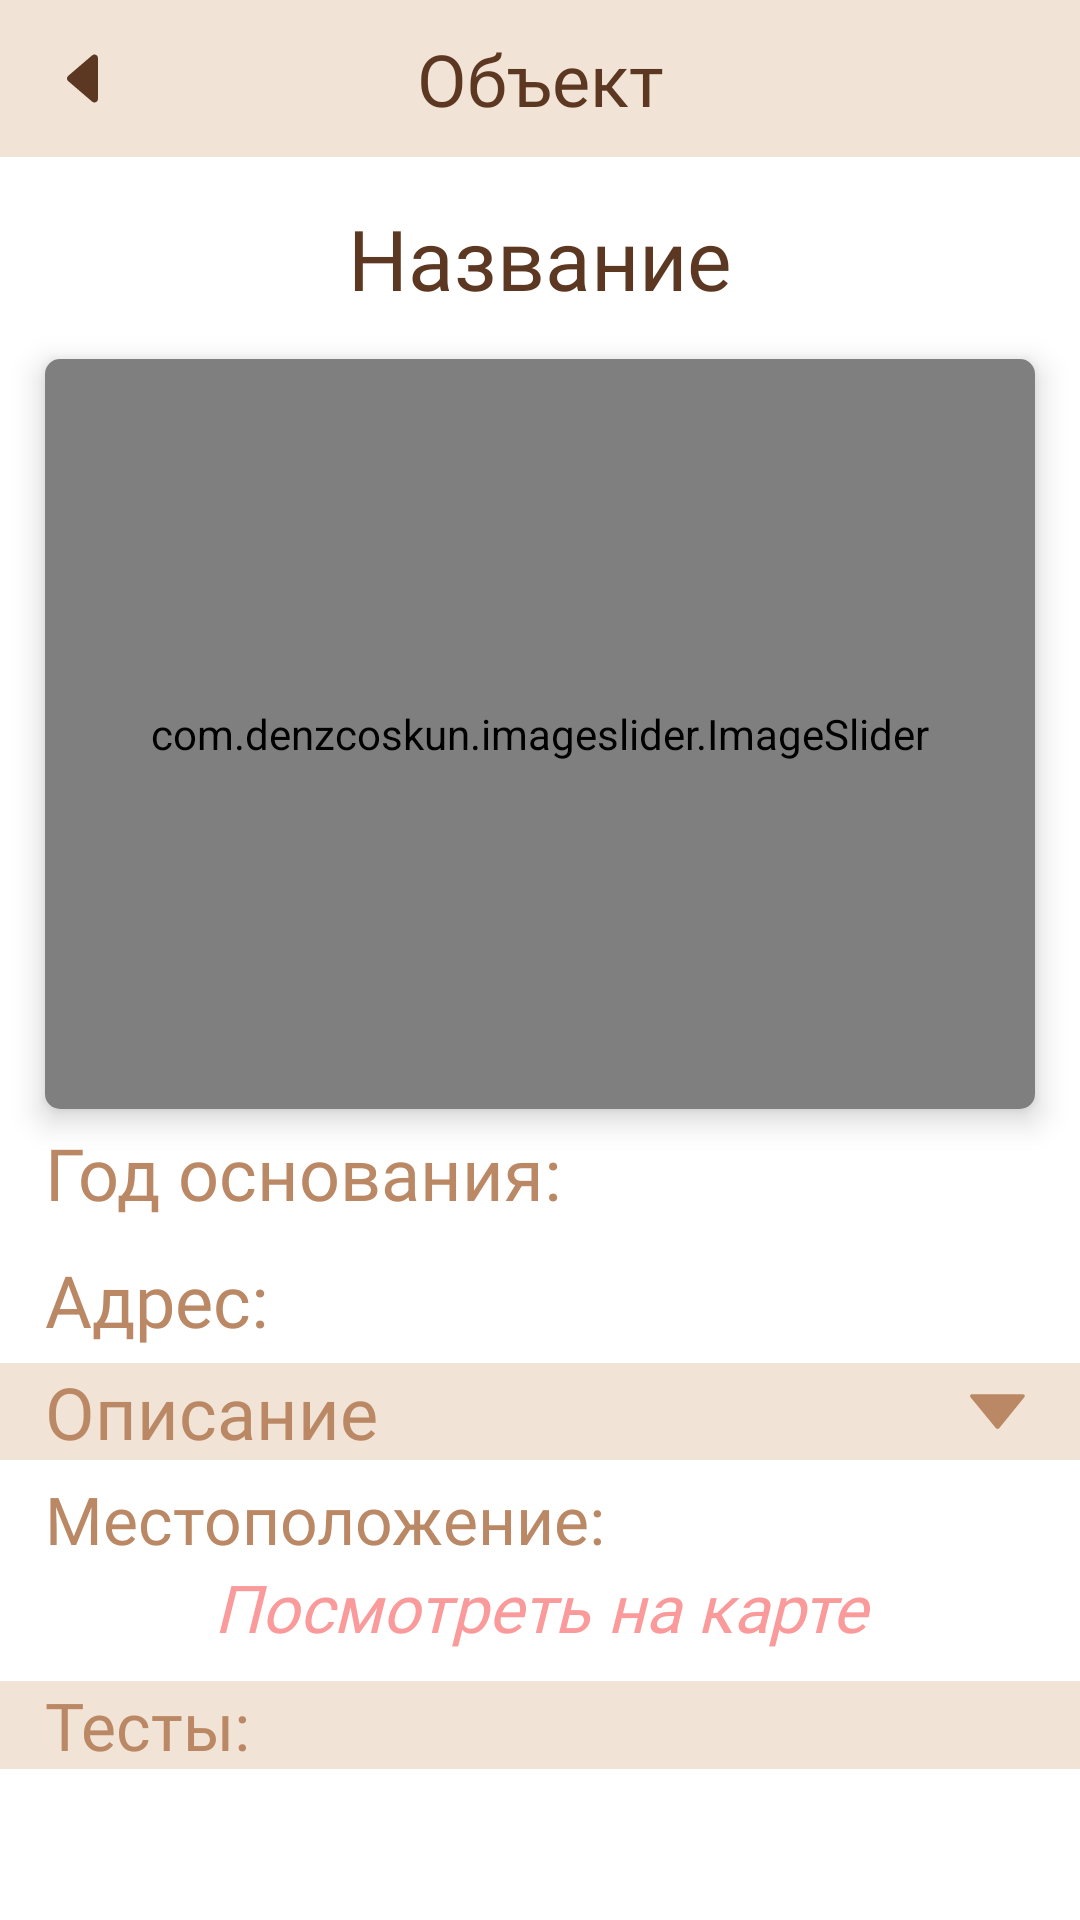

Named icons in this screenshot (1080px x 1920px) and their centers, [x,y]:
back: [82,78]
down: [997,1411]
